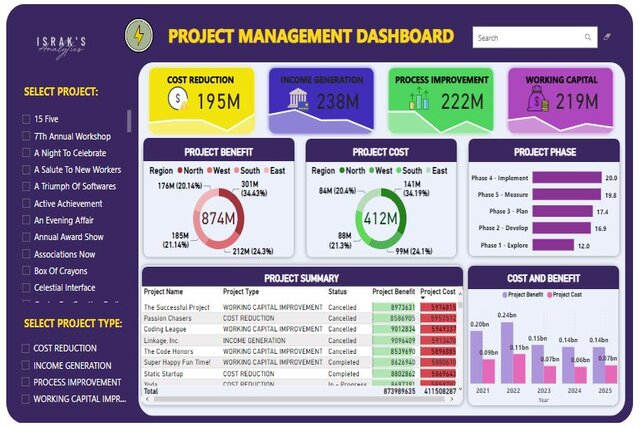

The page's visual inventory and layout, read from the dashboard file:
{"tool":"powerbi","page":{"name":"Project Management Dashboard","canvas":[1280,720],"ordinal":0},"visuals":[{"type":"shape","box":[0,0,1279.8,721.4],"z":0},{"type":"shape","box":[269.3,100.6,993.5,608],"z":1000},{"type":"image","box":[31.4,11.4,161.4,105.7],"z":2000},{"type":"shape","box":[286.3,103.5,226.8,126.1],"z":3000},{"type":"shape","box":[530.1,103.5,226.8,126.1],"z":4000},{"type":"shape","box":[773.9,103.5,226.8,126.1],"z":5000},{"type":"shape","box":[1019.1,103.5,226.8,126.1],"z":6000},{"type":"image","box":[322.9,134,55,55],"z":7000},{"type":"image","box":[568.5,134,55,55],"z":8000},{"type":"image","box":[815.5,134,55,55],"z":9000},{"type":"image","box":[1058.3,134,55,55],"z":10000},{"type":"image","box":[213.7,6.9,112.1,93.1],"z":11000},{"type":"textbox","box":[325.8,25.9,608.6,55.2],"z":12000},{"type":"textFilter25A4896A83E0487089E2B90C9AE57C8A","fields":{"field":["Project Management Dataset.Project Name"]},"box":[947.8,32.8,304.5,47.8],"z":13000},{"type":"slicer","fields":{"Values":["Project Management Dataset.Project Name"]},"box":[20,177.1,240,341.4],"z":14000},{"type":"slicer","fields":{"Values":["Project Management Dataset.Project Type"]},"box":[18.6,571.4,241.4,137.1],"z":15000},{"type":"textbox","box":[31.4,131.4,228.6,45.7],"z":16000},{"type":"textbox","box":[31.4,530,238.6,41.4],"z":17000},{"type":"textbox","box":[305.7,114.6,182.1,37.3],"z":18000},{"type":"textbox","box":[546.8,114.6,195.5,37.3],"z":19000},{"type":"textbox","box":[781.2,113.9,216.4,37.3],"z":20000},{"type":"textbox","box":[1036.6,114.6,194,37.3],"z":21000},{"type":"card","fields":{"Values":["Project Management Dataset.Blanks"]},"box":[367.1,133,131.4,61.4],"z":22000},{"type":"card","fields":{"Values":["Project Management Dataset.Blanks"]},"box":[865.7,133,131.4,61.4],"z":23000},{"type":"card","fields":{"Values":["Project Management Dataset.Blanks"]},"box":[1100,132.9,131.4,61.4],"z":24000},{"type":"card","fields":{"Values":["Project Management Dataset.Blanks"]},"box":[611.4,133,131.4,61.4],"z":25000},{"type":"shape","box":[273.5,228.2,321.7,214],"z":26000},{"type":"shape","box":[605.7,230,321.4,212.9],"z":27000},{"type":"shape","box":[937.1,230,322.9,211.4],"z":28000},{"type":"shape","box":[269,442,672,256],"z":29000},{"type":"shape","box":[935.8,443.3,322.4,255.2],"z":30000},{"type":"shape","box":[280.1,230.5,309,40],"z":31000},{"type":"shape","box":[610.9,231.1,309,40],"z":32000},{"type":"shape","box":[944.9,231.4,309,40],"z":33000},{"type":"shape","box":[277,451,656,40],"z":34000},{"type":"shape","box":[942.5,450.7,309,40],"z":35000},{"type":"donutChart","title":"PROJECT BENEFIT","fields":{"Category":["Project Management Dataset.Region"],"Y":["Project Management Dataset. Project Benefit "]},"box":[274.1,243.6,319.4,197],"z":36000},{"type":"donutChart","title":"PROJECT COST","fields":{"Category":["Project Management Dataset.Region"],"Y":["Project Management Dataset. Project Cost "]},"box":[606,244.3,318.9,197],"z":37000},{"type":"card","fields":{"Values":["Project Management Dataset. Project Benefit "]},"box":[388.6,337.1,88.6,58.6],"z":38000},{"type":"card","fields":{"Values":["Project Management Dataset. Project Cost "]},"box":[720,337.1,88.6,58.6],"z":39000},{"type":"clusteredBarChart","title":"PROJECT PHASE","fields":{"Category":["Project Management Dataset.Phase"],"Y":["Project Management Dataset.Completion%"]},"box":[942.6,244.6,316.1,197],"z":40000},{"type":"tableEx","title":"PROJECT SUMMARY","fields":{"Values":["Project Management Dataset.Project Name","Project Management Dataset.Project Type","Project Management Dataset.Status","Project Management Dataset. Project Benefit ","Project Management Dataset. Project Cost "]},"box":[270,461.7,666.7,226.7],"z":41000},{"type":"clusteredColumnChart","title":"COST AND BENEFIT","fields":{"Y":["Project Management Dataset. Project Benefit ","Project Management Dataset. Project Cost "],"Category":["Project Management Dataset.Year"]},"box":[942.9,461.4,310,230],"z":41001},{"type":"areaChart","fields":{"Y":["Project Management Dataset. Project Benefit "],"Category":["Project Management Dataset.Year"]},"box":[277.1,167.1,242.9,61.4],"z":41002},{"type":"areaChart","fields":{"Y":["Project Management Dataset. Project Benefit "],"Category":["Project Management Dataset.Year"]},"box":[521.4,167.1,242.9,61.4],"z":41003},{"type":"areaChart","fields":{"Y":["Project Management Dataset. Project Benefit "],"Category":["Project Management Dataset.Year"]},"box":[765.7,167.1,242.9,61.4],"z":41004},{"type":"areaChart","fields":{"Y":["Project Management Dataset. Project Benefit "],"Category":["Project Management Dataset.Year"]},"box":[1010,167.1,242.9,61.4],"z":41005}]}

Visuals, with their boxes on the page's 1280x720 design canvas (x1, y1, x2, y2). These are canvas units, not pixel positions in the 640x427 screenshot, which may show the page scaled, cropped or inside an application window:
shape: 0 0 1280 721
shape: 269 101 1263 709
image: 31 11 193 117
shape: 286 104 513 230
shape: 530 104 757 230
shape: 774 104 1001 230
shape: 1019 104 1246 230
image: 323 134 378 189
image: 568 134 624 189
image: 816 134 870 189
image: 1058 134 1113 189
image: 214 7 326 100
textbox: 326 26 934 81
textFilter25A4896A83E0487089E2B90C9AE57C8A - Project Management Dataset.Project Name: 948 33 1252 81
slicer - Project Management Dataset.Project Name: 20 177 260 518
slicer - Project Management Dataset.Project Type: 19 571 260 708
textbox: 31 131 260 177
textbox: 31 530 270 571
textbox: 306 115 488 152
textbox: 547 115 742 152
textbox: 781 114 998 151
textbox: 1037 115 1231 152
card - Project Management Dataset.Blanks: 367 133 498 194
card - Project Management Dataset.Blanks: 866 133 997 194
card - Project Management Dataset.Blanks: 1100 133 1231 194
card - Project Management Dataset.Blanks: 611 133 743 194
shape: 274 228 595 442
shape: 606 230 927 443
shape: 937 230 1260 441
shape: 269 442 941 698
shape: 936 443 1258 698
shape: 280 230 589 270
shape: 611 231 920 271
shape: 945 231 1254 271
shape: 277 451 933 491
shape: 942 451 1252 491
"PROJECT BENEFIT" donutChart: 274 244 594 441
"PROJECT COST" donutChart: 606 244 925 441
card - Project Management Dataset. Project Benefit : 389 337 477 396
card - Project Management Dataset. Project Cost : 720 337 809 396
"PROJECT PHASE" clusteredBarChart: 943 245 1259 442
"PROJECT SUMMARY" tableEx: 270 462 937 688
"COST AND BENEFIT" clusteredColumnChart: 943 461 1253 691
areaChart - Project Management Dataset. Project Benefit  x Project Management Dataset.Year: 277 167 520 228
areaChart - Project Management Dataset. Project Benefit  x Project Management Dataset.Year: 521 167 764 228
areaChart - Project Management Dataset. Project Benefit  x Project Management Dataset.Year: 766 167 1009 228
areaChart - Project Management Dataset. Project Benefit  x Project Management Dataset.Year: 1010 167 1253 228
